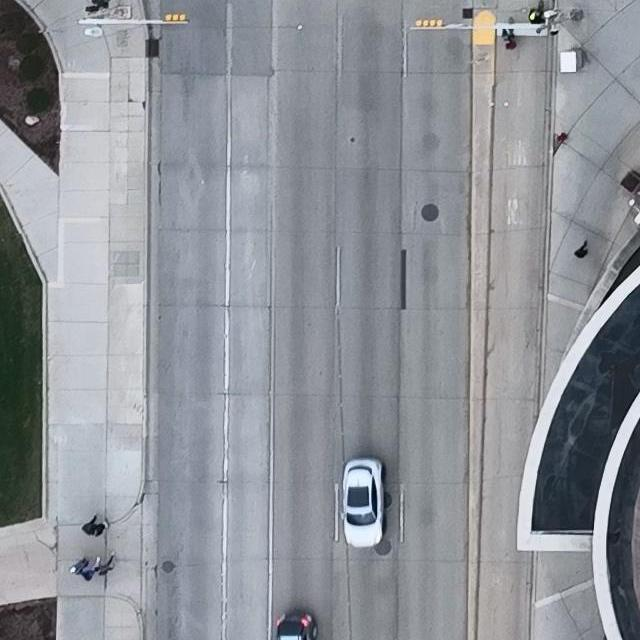car: (340, 457, 386, 549), (275, 614, 319, 640)
